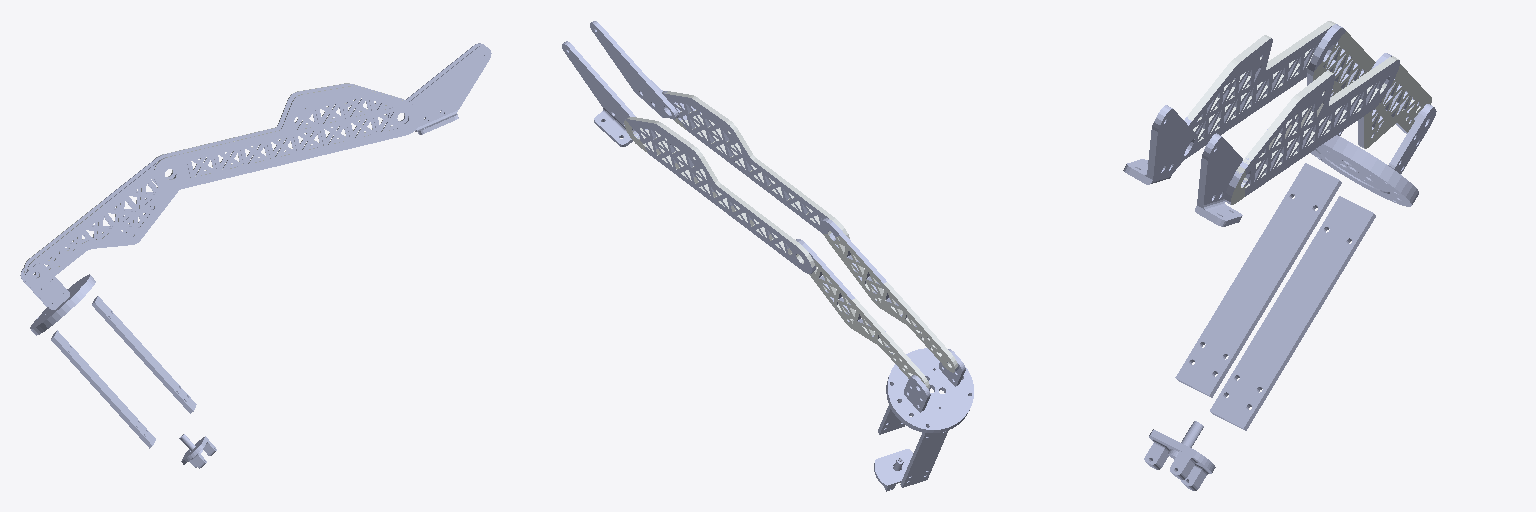
robot.urdf — Arm UDSF:
<robot
  name="Arm UDSF">
  <link
    name="base_link">
    <inertial>
      <origin
        xyz="-0.470715532388592 0.00817143616602599 -0.217249122899845"
        rpy="0 0 0" />
      <mass
        value="1.25107043766472" />
      <inertia
        ixx="0.0217405590435314"
        ixy="-0.0218899754184432"
        ixz="-0.00700617157014142"
        iyy="0.0402141237628187"
        iyz="-0.0023547006718547"
        izz="0.0558160190216554" />
    </inertial>
    <visual>
      <origin
        xyz="0 0 0"
        rpy="0 0 0" />
      <geometry>
        <mesh
          filename="package://Arm UDSF/meshes/base_link.STL" />
      </geometry>
      <material
        name="">
        <color
          rgba="0.792156862745098 0.819607843137255 0.933333333333333 1" />
      </material>
    </visual>
    <collision>
      <origin
        xyz="0 0 0"
        rpy="0 0 0" />
      <geometry>
        <mesh
          filename="package://Arm UDSF/meshes/base_link.STL" />
      </geometry>
    </collision>
  </link>
  <link
    name="la">
    <inertial>
      <origin
        xyz="0.13884061912792 0.0584236819656761 -0.022225004530128"
        rpy="0 0 0" />
      <mass
        value="0.805738316840894" />
      <inertia
        ixx="0.000905266156127087"
        ixy="-0.000764036180704797"
        ixz="-2.19932832591017E-09"
        iyy="0.00562558993784086"
        iyz="-5.38400372028514E-10"
        izz="0.00496149793368141" />
    </inertial>
    <visual>
      <origin
        xyz="0 0 0"
        rpy="0 0 0" />
      <geometry>
        <mesh
          filename="package://Arm UDSF/meshes/la.STL" />
      </geometry>
      <material
        name="">
        <color
          rgba="0.792156862745098 0.819607843137255 0.933333333333333 1" />
      </material>
    </visual>
    <collision>
      <origin
        xyz="0 0 0"
        rpy="0 0 0" />
      <geometry>
        <mesh
          filename="package://Arm UDSF/meshes/la.STL" />
      </geometry>
    </collision>
  </link>
  <joint
    name="b-la"
    type="revolute">
    <origin
      xyz="-0.20712 0.15338 0.074139"
      rpy="1.9612 0.3394 2.8578" />
    <parent
      link="base_link" />
    <child
      link="la" />
    <axis
      xyz="0 0 0" />
    <limit
      effort="0"
      velocity="0" />
  </joint>
  <link
    name="ua">
    <inertial>
      <origin
        xyz="-0.157286210361564 0.144496495793153 0.0349249907336261"
        rpy="0 0 0" />
      <mass
        value="0.847277578337655" />
      <inertia
        ixx="0.0037586613086151"
        ixy="0.00486870176467704"
        ixz="2.61170096820299E-10"
        iyy="0.00880717923327963"
        iyz="-1.60871735637586E-10"
        izz="0.0109683435727158" />
    </inertial>
    <visual>
      <origin
        xyz="0 0 0"
        rpy="0 0 0" />
      <geometry>
        <mesh
          filename="package://Arm UDSF/meshes/ua.STL" />
      </geometry>
      <material
        name="">
        <color
          rgba="0.898039215686275 0.917647058823529 0.929411764705882 1" />
      </material>
    </visual>
    <collision>
      <origin
        xyz="0 0 0"
        rpy="0 0 0" />
      <geometry>
        <mesh
          filename="package://Arm UDSF/meshes/ua.STL" />
      </geometry>
    </collision>
  </link>
  <joint
    name="la-ua"
    type="revolute">
    <origin
      xyz="0.0127 0.0254 0.0127"
      rpy="3.1416 1.2941E-15 2.5708" />
    <parent
      link="la" />
    <child
      link="ua" />
    <axis
      xyz="0 0 0" />
    <limit
      effort="0"
      velocity="0" />
  </joint>
  <link
    name="w">
    <inertial>
      <origin
        xyz="-0.0739953753431454 0.107500470601272 0.0285750052716065"
        rpy="0 0 0" />
      <mass
        value="0.182609536923497" />
      <inertia
        ixx="0.00049189943958492"
        ixy="0.000220056708536207"
        ixz="-4.40392987105954E-12"
        iyy="0.000262058292830524"
        iyz="1.34849363866616E-11"
        izz="0.000496514624788167" />
    </inertial>
    <visual>
      <origin
        xyz="0 0 0"
        rpy="0 0 0" />
      <geometry>
        <mesh
          filename="package://Arm UDSF/meshes/w.STL" />
      </geometry>
      <material
        name="">
        <color
          rgba="0.792156862745098 0.819607843137255 0.933333333333333 1" />
      </material>
    </visual>
    <collision>
      <origin
        xyz="0 0 0"
        rpy="0 0 0" />
      <geometry>
        <mesh
          filename="package://Arm UDSF/meshes/w.STL" />
      </geometry>
    </collision>
  </link>
  <joint
    name="ua-w"
    type="revolute">
    <origin
      xyz="-0.26154 0.24093 0.0635"
      rpy="-3.1416 1.8319E-15 -1.2356" />
    <parent
      link="ua" />
    <child
      link="w" />
    <axis
      xyz="0 0 0" />
    <limit
      effort="0"
      velocity="0" />
  </joint>
  <link
    name="hand">
    <inertial>
      <origin
        xyz="0.0190457064181672 0.0343360869456164 -0.0380957579667052"
        rpy="0 0 0" />
      <mass
        value="0.235079651777631" />
      <inertia
        ixx="0.00123531986490541"
        ixy="-6.05282927402859E-08"
        ixz="3.85883035594614E-12"
        iyy="0.000177930584996721"
        iyz="5.97996989610607E-08"
        izz="0.00105738928683835" />
    </inertial>
    <visual>
      <origin
        xyz="0 0 0"
        rpy="0 0 0" />
      <geometry>
        <mesh
          filename="package://Arm UDSF/meshes/hand.STL" />
      </geometry>
      <material
        name="">
        <color
          rgba="0.792156862745098 0.819607843137255 0.933333333333333 1" />
      </material>
    </visual>
    <collision>
      <origin
        xyz="0 0 0"
        rpy="0 0 0" />
      <geometry>
        <mesh
          filename="package://Arm UDSF/meshes/hand.STL" />
      </geometry>
    </collision>
  </link>
  <joint
    name="w-hand"
    type="revolute">
    <origin
      xyz="-0.10247 0.27897 0.022118"
      rpy="-1.4491E-14 -1.2593 -0.99779" />
    <parent
      link="w" />
    <child
      link="hand" />
    <axis
      xyz="0 0 0" />
    <limit
      effort="0"
      velocity="0" />
  </joint>
  <link
    name="fingers">
    <inertial>
      <origin
        xyz="0.019316100627391 0.143253755168147 0.0444499911492122"
        rpy="0 0 0" />
      <mass
        value="0.132085232100119" />
      <inertia
        ixx="0.000752024003929646"
        ixy="-4.54379559238204E-06"
        ixz="1.33735979105168E-11"
        iyy="0.000177972846097994"
        iyz="1.22375995465906E-10"
        izz="0.000574135703708145" />
    </inertial>
    <visual>
      <origin
        xyz="0 0 0"
        rpy="0 0 0" />
      <geometry>
        <mesh
          filename="package://Arm UDSF/meshes/fingers.STL" />
      </geometry>
      <material
        name="">
        <color
          rgba="0.792156862745098 0.819607843137255 0.933333333333333 1" />
      </material>
    </visual>
    <collision>
      <origin
        xyz="0 0 0"
        rpy="0 0 0" />
      <geometry>
        <mesh
          filename="package://Arm UDSF/meshes/fingers.STL" />
      </geometry>
    </collision>
  </link>
  <joint
    name="hand-fingers"
    type="prismatic">
    <origin
      xyz="0 0 -0.08255"
      rpy="-1.1102E-15 0 2.1649E-15" />
    <parent
      link="hand" />
    <child
      link="fingers" />
    <axis
      xyz="0 0 0" />
    <limit
      effort="0"
      velocity="0" />
  </joint>
</robot>

--- What the picture shows (computed from the rendered views, not written in the file) ---
3 views of the same robot in one strip: view 1: azimuth 30°, elevation 25°; view 2: azimuth 150°, elevation 25°; view 3: azimuth 270°, elevation 25° (orthographic).
Robot: Arm UDSF — 6 links, 5 joints (4 revolute, 1 prismatic); root link base_link; default pose: every joint at zero.
Visible links, largest first — view 1: base_link, hand, fingers, ua; view 2: la, ua, hand, w, base_link, fingers; view 3: hand, la, ua, base_link, fingers, w.
Link boxes in pixels (x1=…): base_link: x1=21, y1=44, x2=491, y2=468; hand: x1=30, y1=274, x2=195, y2=444; fingers: x1=54, y1=300, x2=216, y2=462; ua: x1=24, y1=83, x2=404, y2=277; la: x1=562, y1=21, x2=845, y2=273; ua: x1=624, y1=91, x2=957, y2=388; hand: x1=879, y1=348, x2=973, y2=486; w: x1=796, y1=218, x2=964, y2=412; base_link: x1=601, y1=120, x2=969, y2=491; fingers: x1=874, y1=424, x2=928, y2=489; hand: x1=1175, y1=135, x2=1418, y2=430; la: x1=1127, y1=26, x2=1399, y2=226; ua: x1=1187, y1=21, x2=1431, y2=204; base_link: x1=1123, y1=42, x2=1430, y2=490; fingers: x1=1144, y1=177, x2=1361, y2=489; w: x1=1314, y1=24, x2=1436, y2=173.
Size in the robot's own frame: 0.7149 by 0.2709 by 0.5891 metres.
Meshes: 6 distinct files referenced, 6 mesh visuals loaded (6 binary STL).